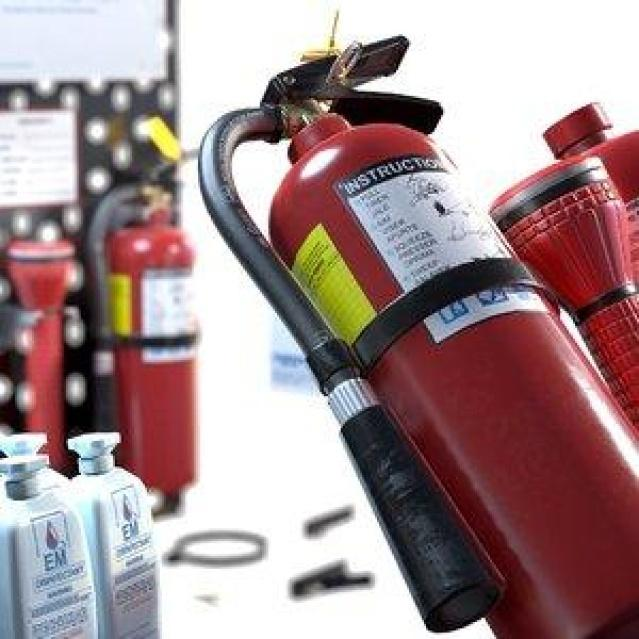APAR: (261, 30, 638, 638)
